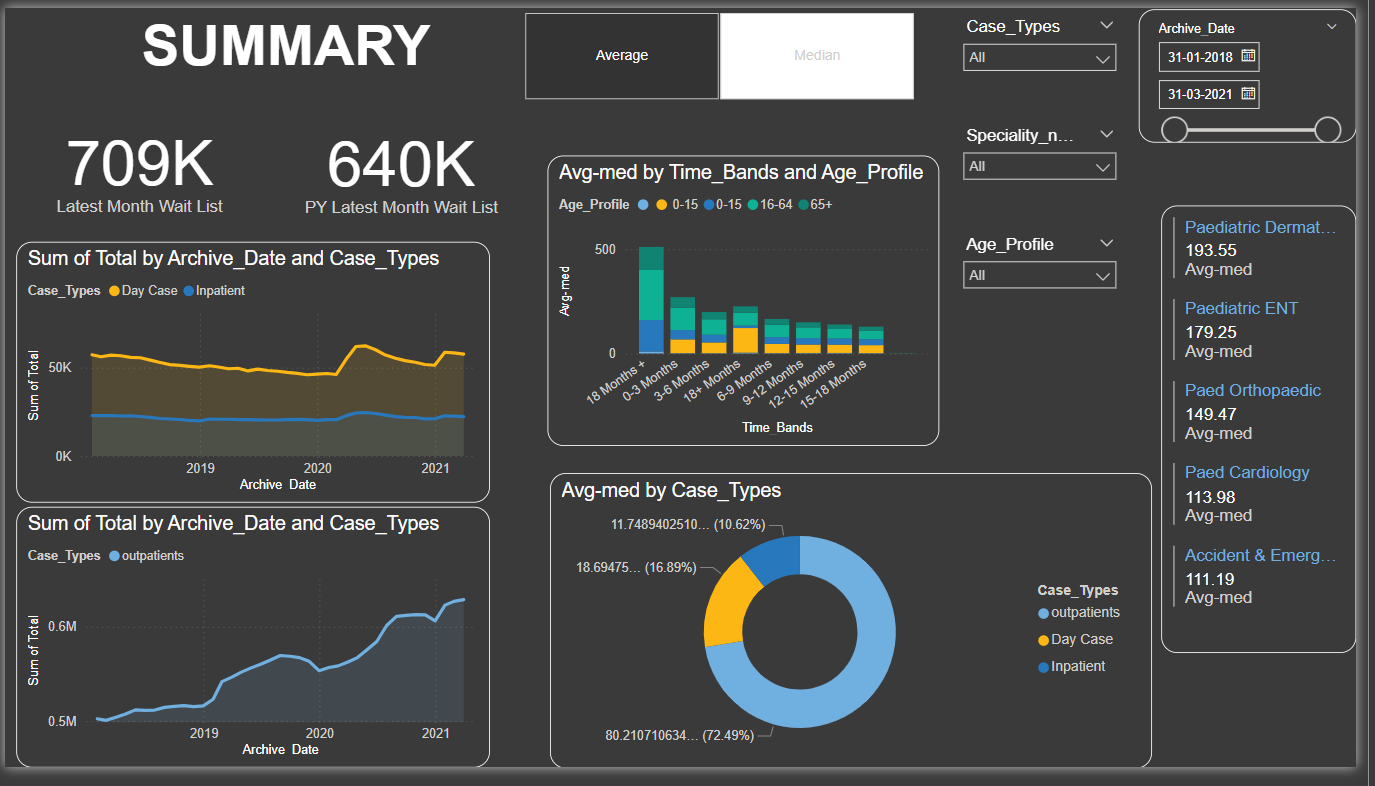

The dashboard page shown, as its layout file describes it:
{"tool":"powerbi","page":{"name":"Page 1","canvas":[1280,720],"ordinal":0},"visuals":[{"type":"card","fields":{"Values":["Inpatient.Latest Month Wait List"]},"box":[18.8,92.5,217.5,116.2],"z":0},{"type":"card","fields":{"Values":["Inpatient.PY Latest Month Wait List"]},"box":[270,93.8,211.2,116.2],"z":1000},{"type":"donutChart","fields":{"Category":["master.Case_Types"],"Y":["master.avgmed"]},"box":[516.2,440,570,280],"z":2000},{"type":"columnChart","fields":{"Y":["master.avgmed"],"Category":["master.Time_Bands"],"Series":["master.Age_Profile"]},"box":[513.8,140,371.2,275],"z":3000},{"type":"slicer","fields":{"Values":["calculation.calcmethod"]},"box":[468.8,0,416.2,91.2],"z":4000},{"type":"multiRowCard","fields":{"Values":["master.avgmed","master.Speciality_name"]},"box":[1095,187.5,185,423.8],"z":5000},{"type":"lineChart","fields":{"Category":["master.Archive_Date"],"Y":["Sum(master.Total)"],"Series":["master.Case_Types"]},"box":[11.2,221.2,448.8,247.5],"z":6000},{"type":"lineChart","fields":{"Category":["master.Archive_Date"],"Y":["Sum(master.Total)"],"Series":["master.Case_Types"]},"box":[11.2,472.5,448.8,247.5],"z":7000},{"type":"slicer","fields":{"Values":["master.Archive_Date"]},"box":[1073.8,1.2,206.2,126.2],"z":8000},{"type":"slicer","fields":{"Values":["master.Case_Types"]},"box":[897.5,3.8,165,81.2],"z":9000},{"type":"slicer","fields":{"Values":["master.Speciality_name"]},"box":[897.5,106.2,165,81.2],"z":10000},{"type":"textbox","box":[87.5,0,357.5,87.5],"z":11000},{"type":"slicer","fields":{"Values":["master.Age_Profile"]},"box":[897.5,210,165,92.5],"z":11001}]}

Visuals, with their boxes in screenshot pixels (x1, y1, x2, y2), scaled from the page's 1280x720 canvas onto the 1375x786 screenshot:
card - Inpatient.Latest Month Wait List: rect(20, 101, 254, 228)
card - Inpatient.PY Latest Month Wait List: rect(290, 102, 517, 229)
donutChart - master.Case_Types x master.avgmed: rect(555, 480, 1167, 785)
columnChart - master.avgmed x master.Time_Bands: rect(552, 153, 951, 453)
slicer - calculation.calcmethod: rect(504, 0, 951, 100)
multiRowCard - master.avgmed x master.Speciality_name: rect(1176, 205, 1374, 667)
lineChart - master.Archive_Date x Sum(master.Total): rect(12, 241, 494, 512)
lineChart - master.Archive_Date x Sum(master.Total): rect(12, 516, 494, 785)
slicer - master.Archive_Date: rect(1153, 1, 1374, 139)
slicer - master.Case_Types: rect(964, 4, 1141, 93)
slicer - master.Speciality_name: rect(964, 116, 1141, 205)
textbox: rect(94, 0, 478, 96)
slicer - master.Age_Profile: rect(964, 229, 1141, 330)
